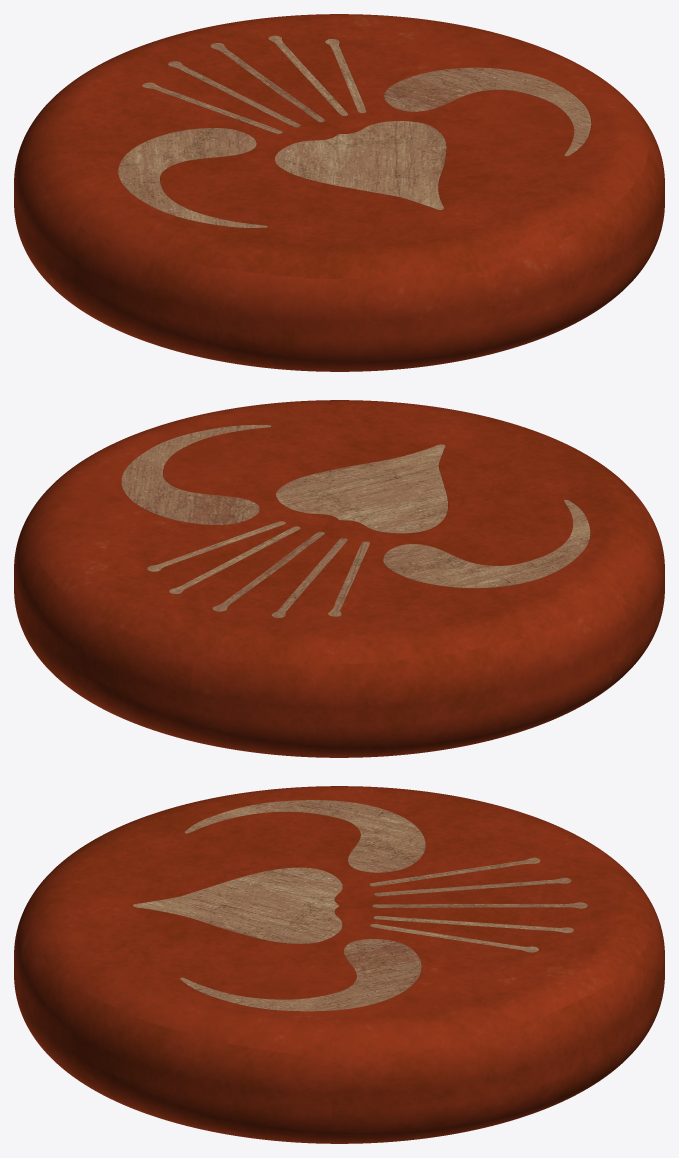
File: Tile_Lily.glb
3 views of the same model, one above another, from view 1: azimuth 30°, elevation 25°; view 2: azimuth 150°, elevation 25°; view 3: azimuth 270°, elevation 25° (orthographic).
Visible parts, largest first — view 1: Tile, Face; view 2: Tile, Face; view 3: Tile, Face.
Boxes of the visible parts, box(x1,y1,x2,y2) form: Tile: box(14, 14, 664, 371); Face: box(118, 35, 591, 227); Tile: box(14, 400, 664, 757); Face: box(121, 425, 590, 617); Tile: box(14, 786, 664, 1143); Face: box(133, 800, 587, 1011).
Size of the model in its own units: 2 by 0.4 by 2.
2 materials, 2 textured.
